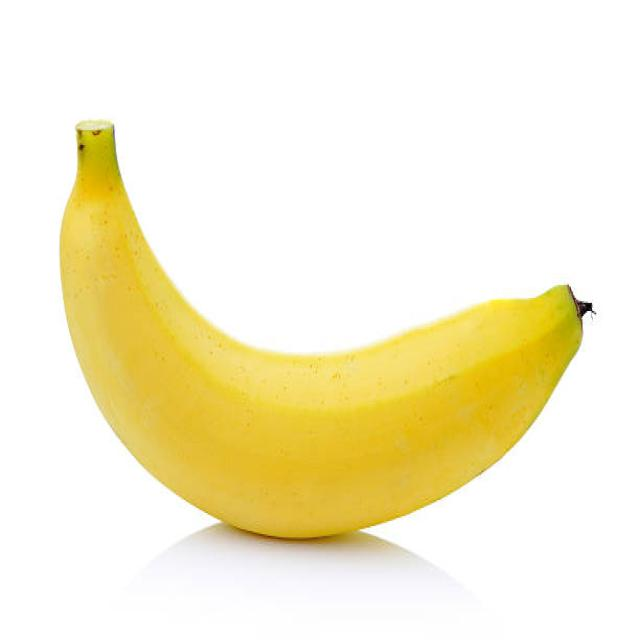banana: (57, 123, 588, 543)
